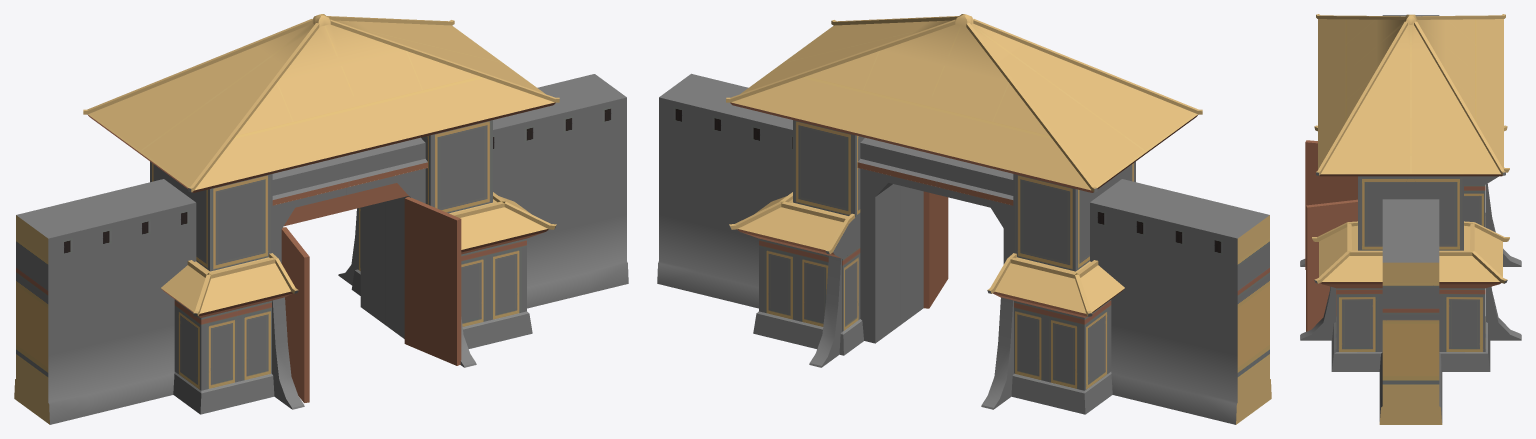
Rendered from n_snow_m_empiregate_01.fbx.
3 views of the same model, side by side, from view 1: azimuth 30°, elevation 25°; view 2: azimuth 150°, elevation 25°; view 3: azimuth 270°, elevation 25° (orthographic). The views are drawn at different scales.
Parts seen in each view (by area): view 1: Box25; view 2: Box25; view 3: Box25.
Part boxes in pixels (left/top/right/bottom): Box25: left=14, top=14, right=628, bottom=424; Box25: left=657, top=14, right=1271, bottom=424; Box25: left=1300, top=14, right=1521, bottom=424.
Bounding box in the file's own units: 36.26 × 19.53 × 13.69.
